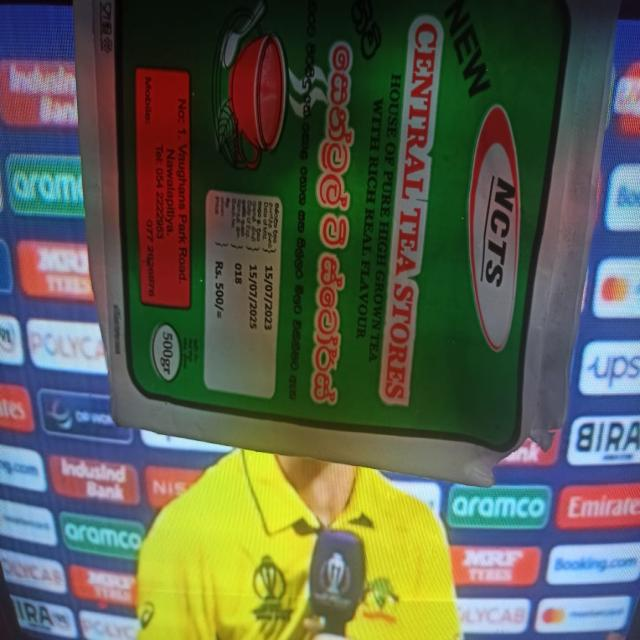Central Tea: (102, 0, 538, 456)
